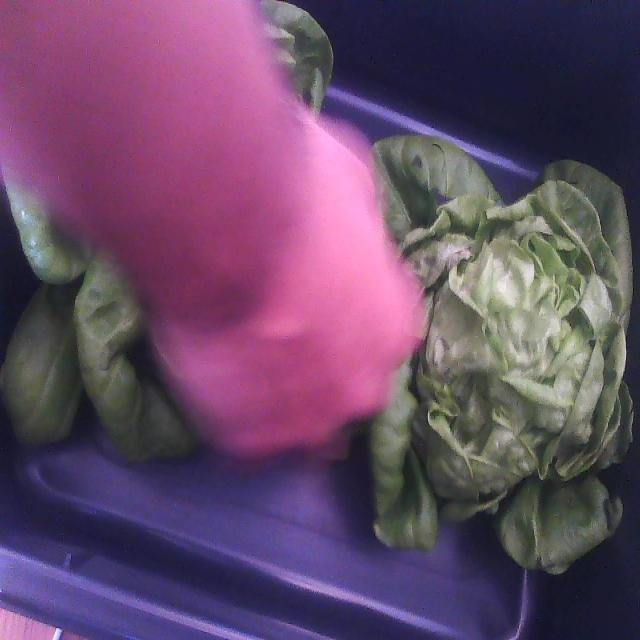lettuce: (370, 136, 632, 572)
